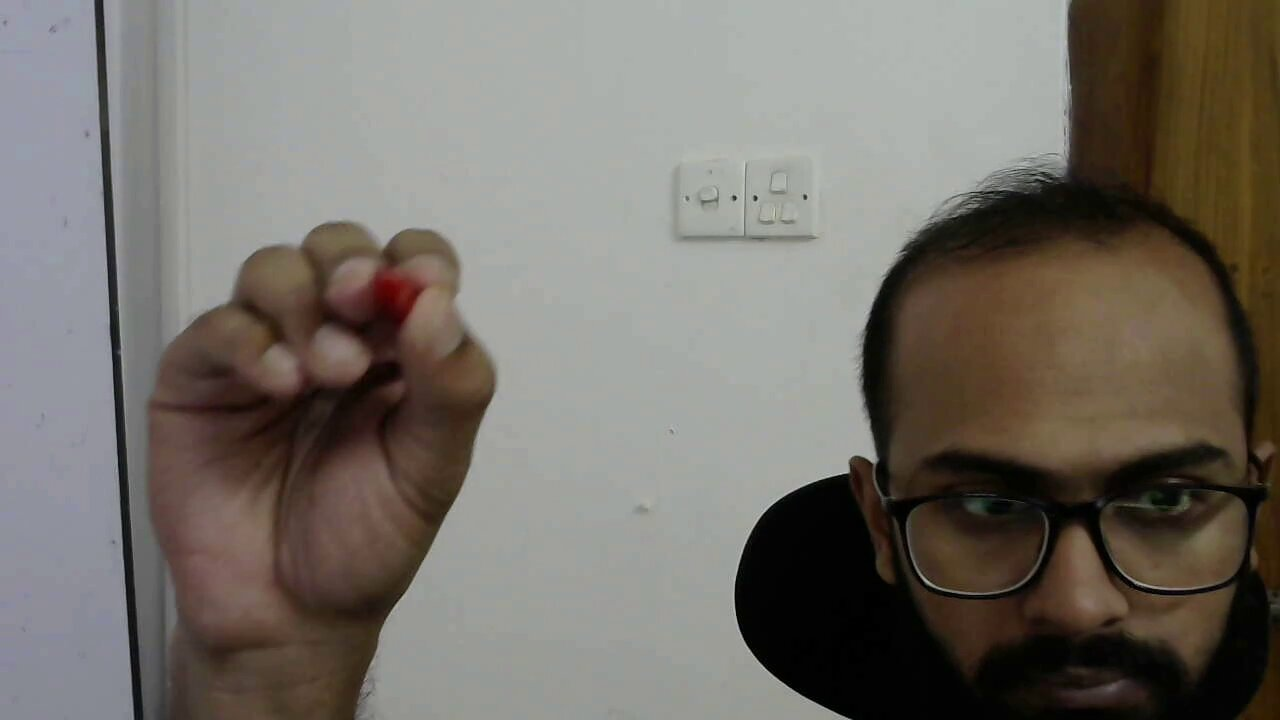pointer: (144, 218, 502, 556)
